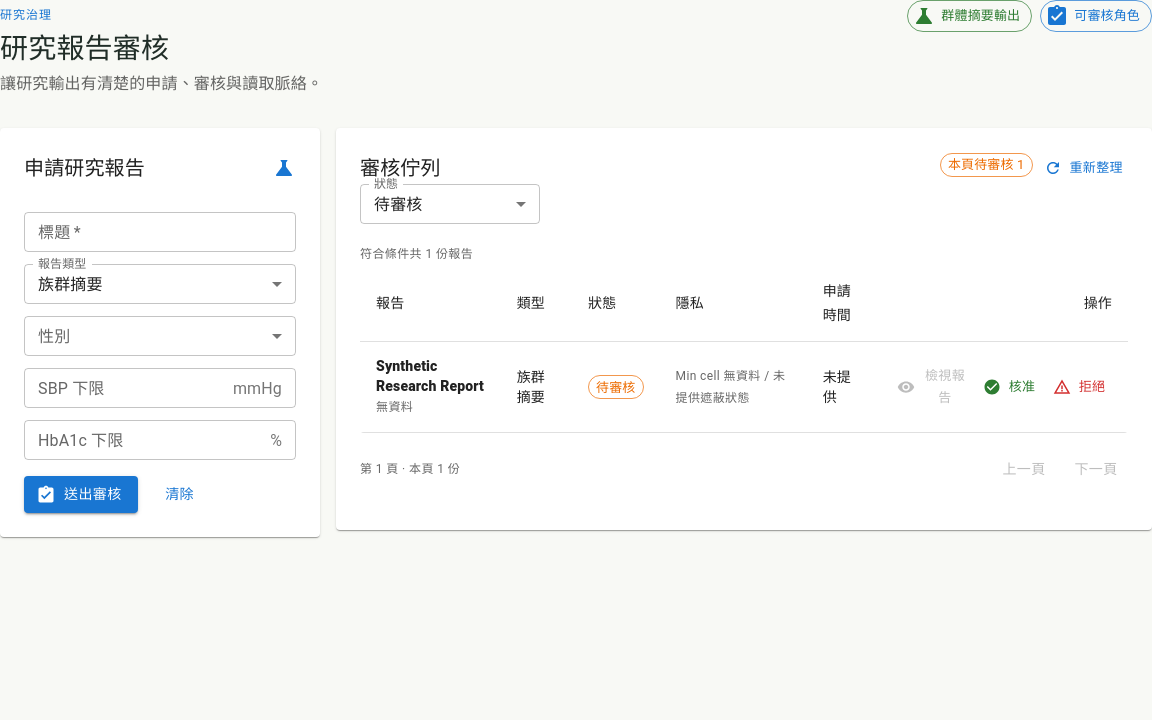
approval failure is visible within the dialog and keeps its note
Expected: the text "Synthetic Research Report" is shown, [376,356,485,396]
Click the button "核准": (1010, 387) [978,361,1042,414]
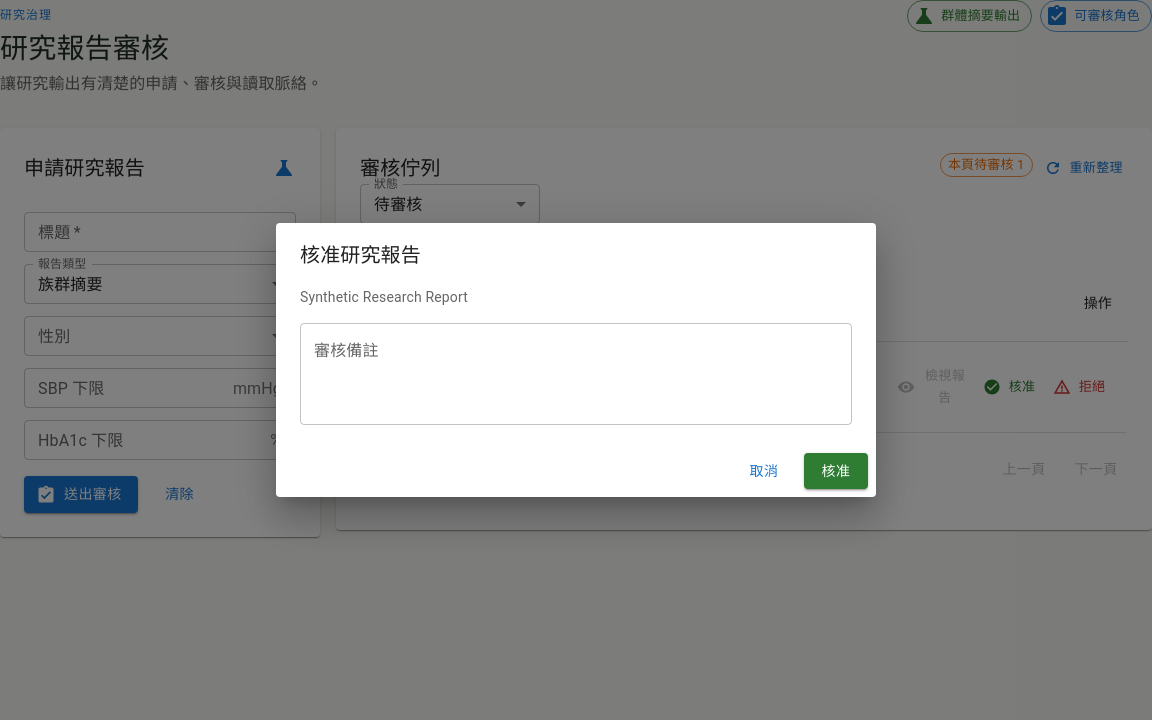
In the text box labelled "審核備註": (576, 374) [314,339,838,408], type "Synthetic review note"
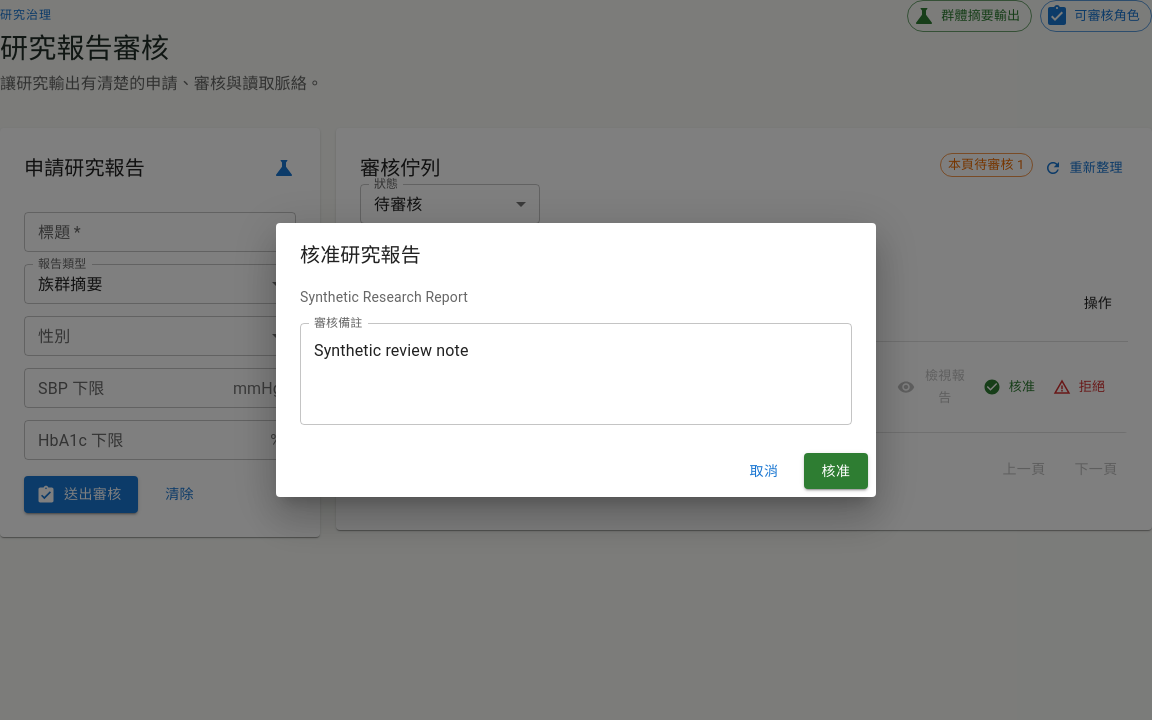
Click the button "核准": (836, 471) [804,453,868,489]
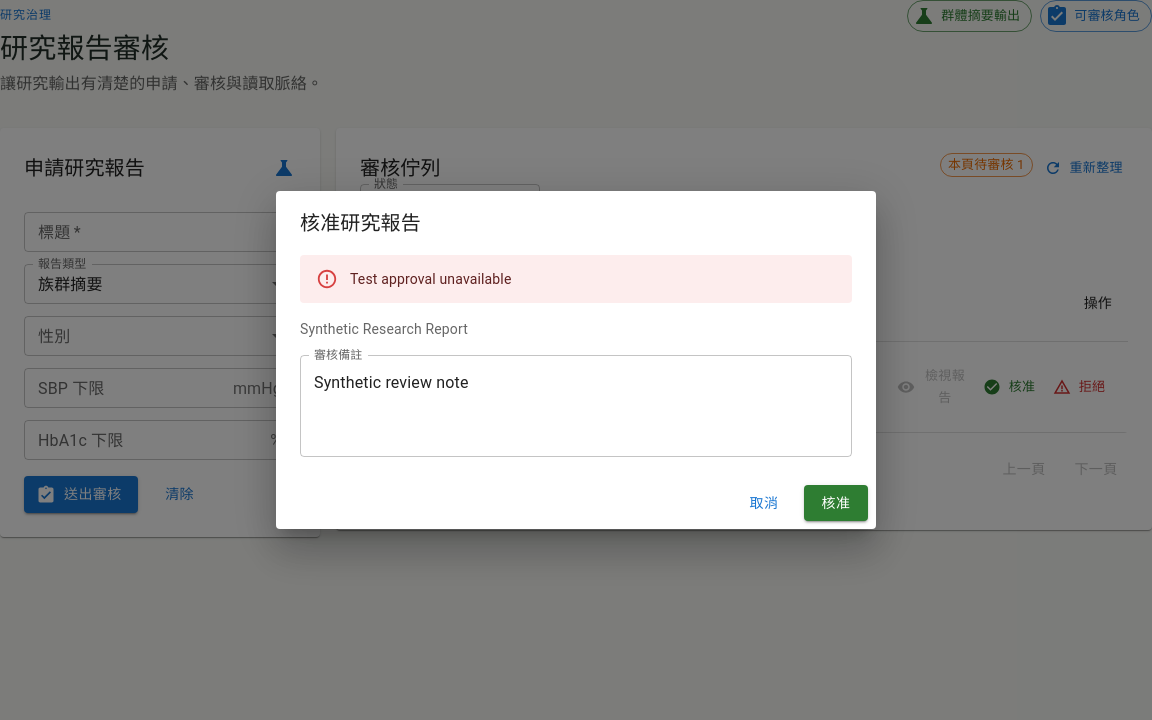
Expected: the message reads "Test approval unavailable", [350,271,512,287]
